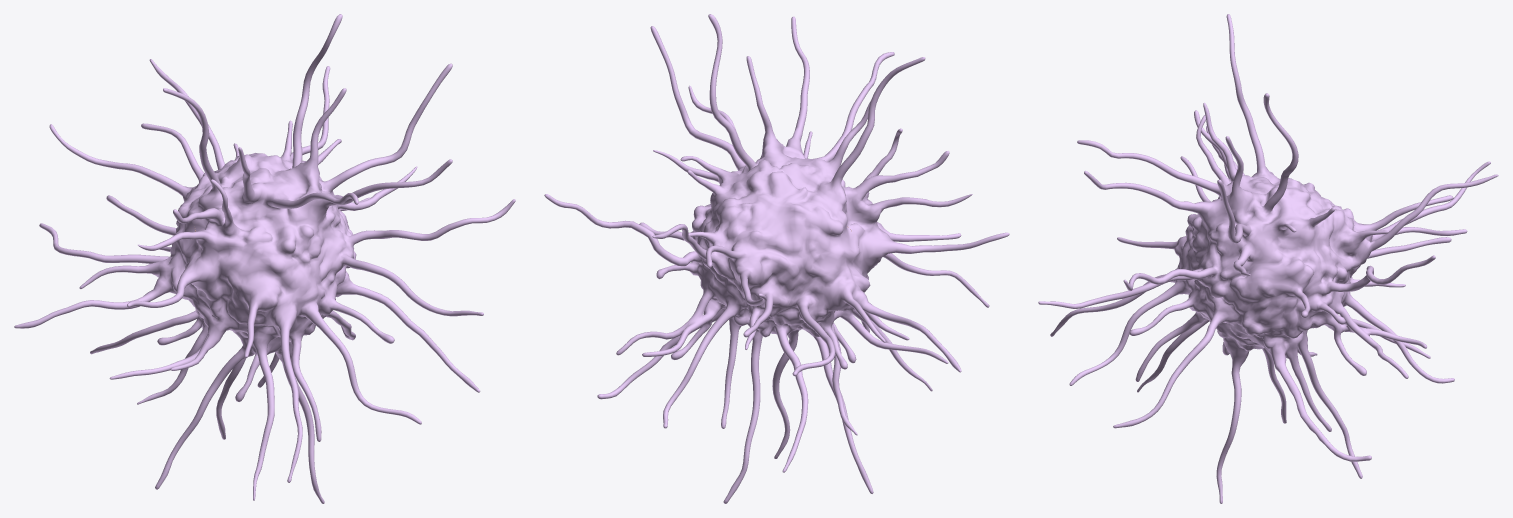
3 views of the same model, side by side, from view 1: azimuth 30°, elevation 25°; view 2: azimuth 150°, elevation 25°; view 3: azimuth 270°, elevation 25° (orthographic). The views are drawn at different scales.
Visible parts, largest first — view 1: DendriticCell_Membrane; view 2: DendriticCell_Membrane; view 3: DendriticCell_Membrane.
Part boxes in pixels (box(x1,y1,x2,y2)): DendriticCell_Membrane: box(14, 14, 515, 503); DendriticCell_Membrane: box(544, 14, 1009, 503); DendriticCell_Membrane: box(1038, 14, 1498, 503).
Size of what is drawn, in the model's own units: 63.52 by 71.88 by 69.83.
Materials: 15 (1 with a texture image).
